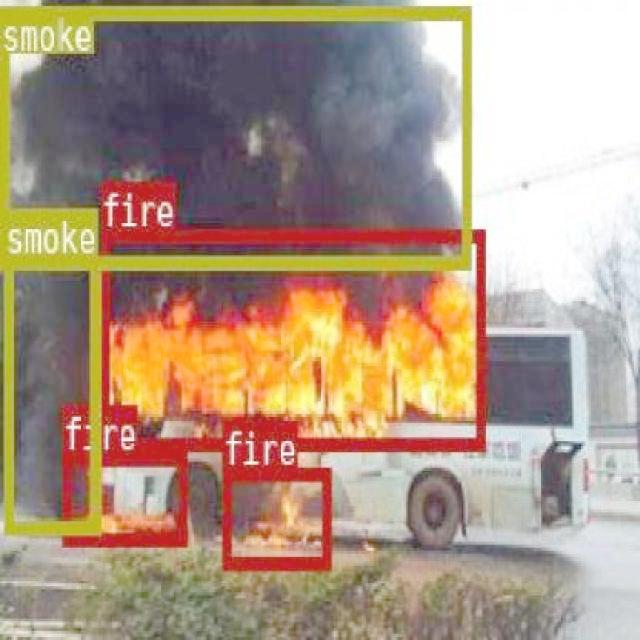fire: (99, 227, 484, 447), (61, 452, 185, 542), (221, 465, 330, 567)
smoke: (0, 5, 471, 268), (4, 254, 98, 532)
